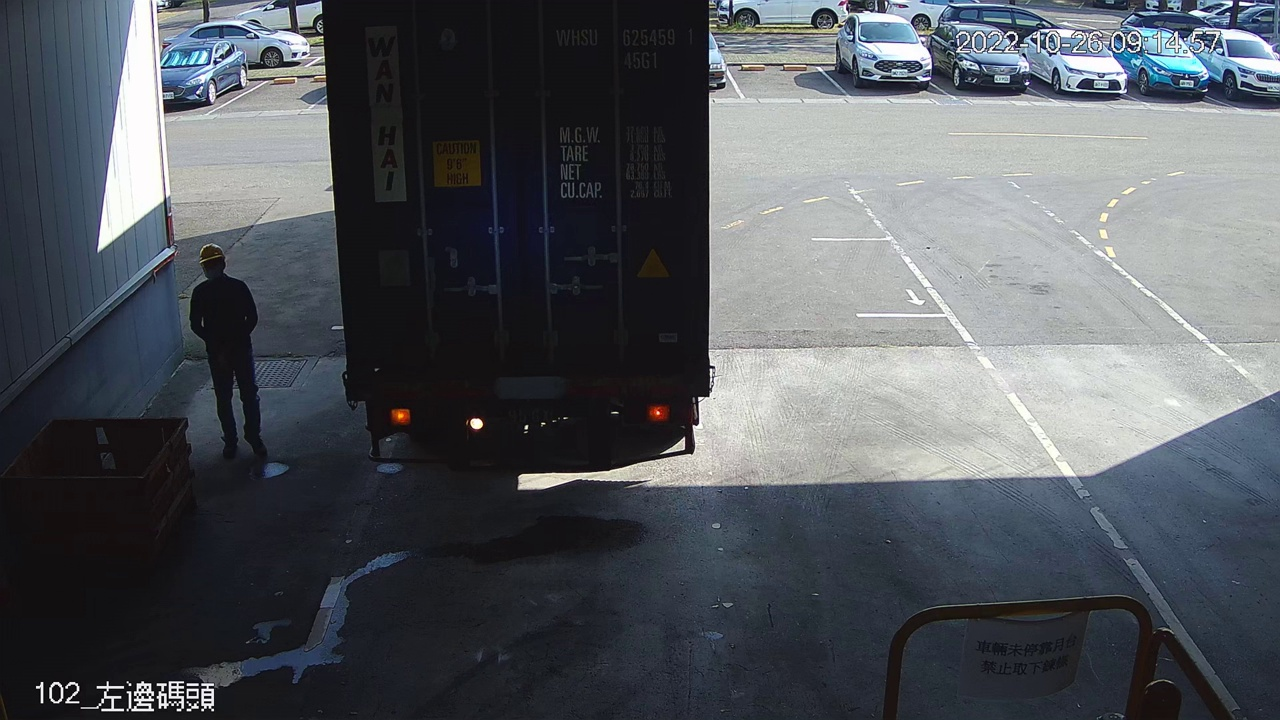container: (548, 19, 699, 77)
